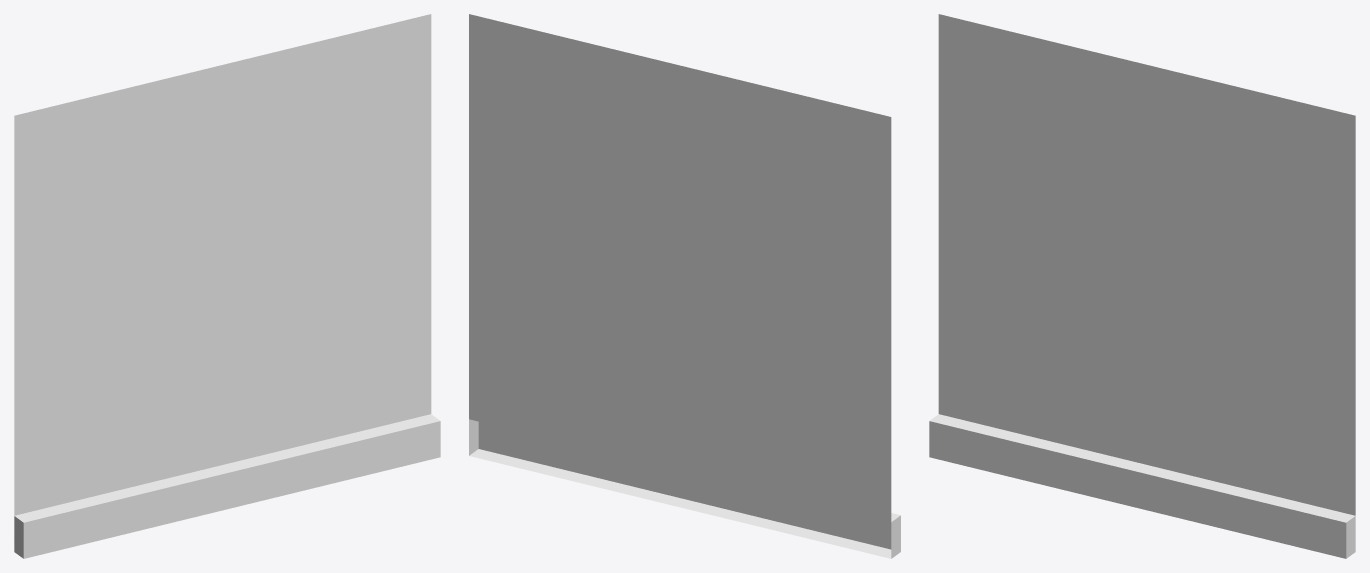
Rendered from Marco_07.fbx.
3 renders of one model, left to right at view 1: azimuth 30°, elevation 25°; view 2: azimuth 150°, elevation 25°; view 3: azimuth 330°, elevation 25°, orthographic.
Visible parts, largest first — view 1: Plane.008; view 2: Plane.008; view 3: Plane.008.
Part boxes in pixels (x1=…): Plane.008: x1=14, y1=14, x2=440, y2=558; Plane.008: x1=469, y1=14, x2=900, y2=558; Plane.008: x1=929, y1=14, x2=1355, y2=558.
Size of the model in its own units: 600 by 600 by 23.63.
